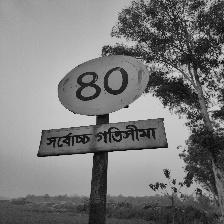Speed-limit: (38, 53, 164, 157)
